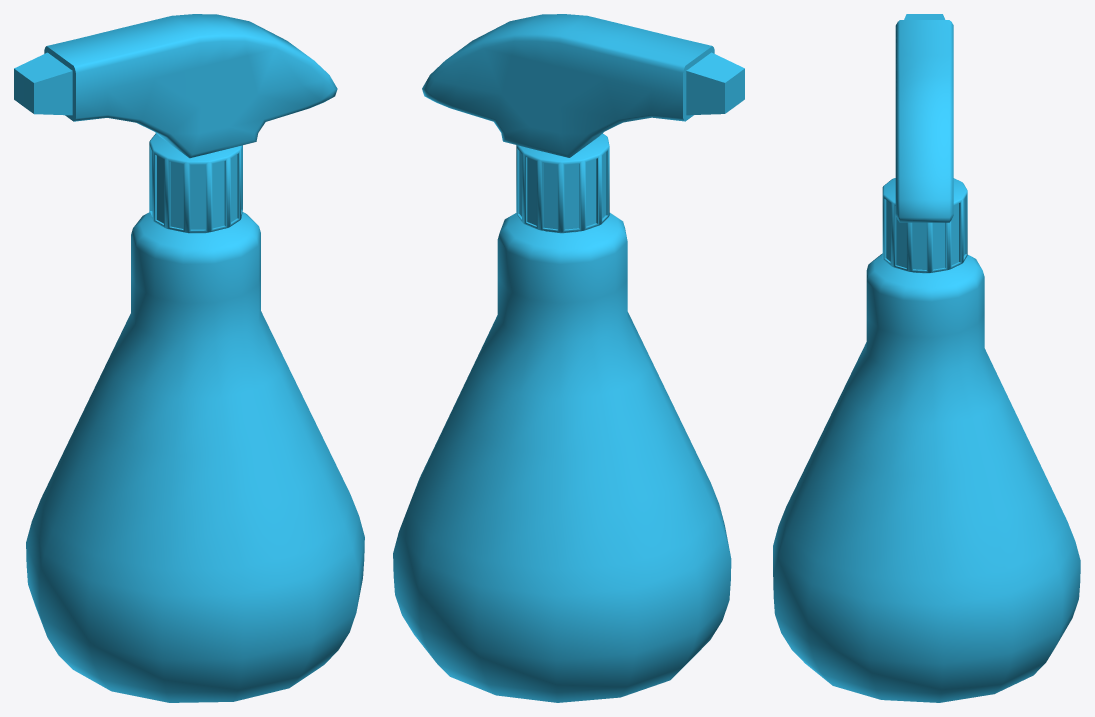
The model's file is SprayBottle.fbx.
3 views of the same model, side by side, from view 1: azimuth 30°, elevation 25°; view 2: azimuth 150°, elevation 25°; view 3: azimuth 270°, elevation 25° (orthographic). The views are drawn at different scales.
Visible parts, largest first — view 1: SprayBottle; view 2: SprayBottle; view 3: SprayBottle.
Boxes of the visible parts, bbox=[...] form: SprayBottle: bbox=[14, 14, 364, 702]; SprayBottle: bbox=[393, 14, 744, 702]; SprayBottle: bbox=[773, 14, 1080, 702].
Bounding box in the file's own units: 51.76 × 99.37 × 47.28.
